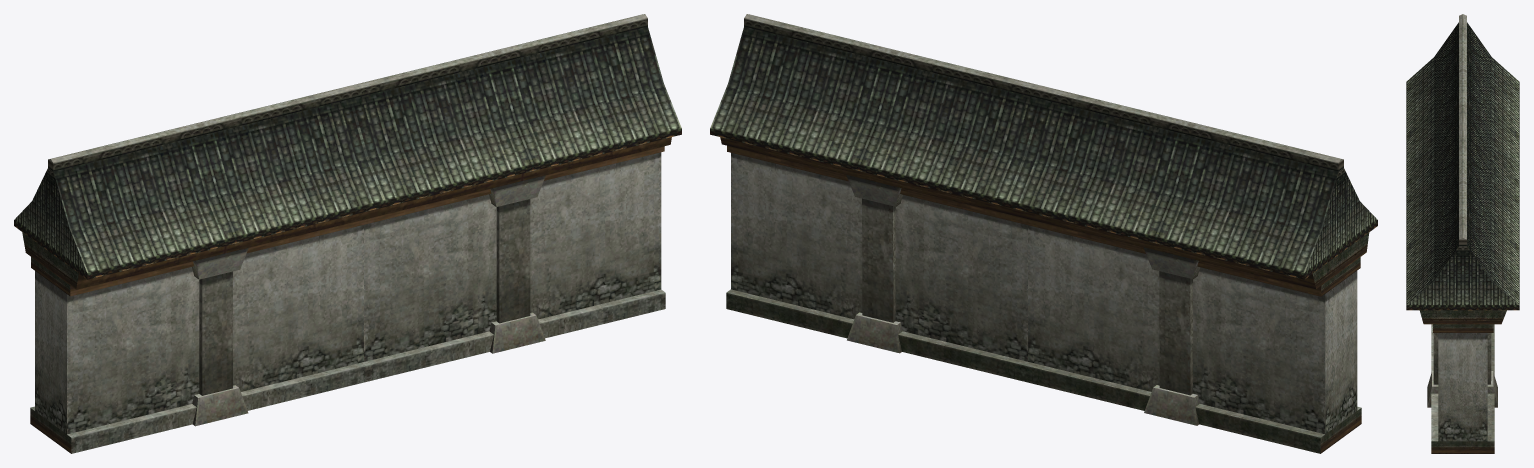
Rendered from c1-038-wall-lin2.fbx.
The picture shows the model from 3 angles, left to right: view 1: azimuth 30°, elevation 25°; view 2: azimuth 150°, elevation 25°; view 3: azimuth 270°, elevation 25°; orthographic projection. The views are drawn at different scales.
Parts seen in each view (by area): view 1: b1-038-wall-lin2; view 2: b1-038-wall-lin2; view 3: b1-038-wall-lin2.
Boxes of the visible parts, x1=… form: b1-038-wall-lin2: x1=14, y1=14, x2=681, y2=453; b1-038-wall-lin2: x1=710, y1=14, x2=1377, y2=453; b1-038-wall-lin2: x1=1406, y1=14, x2=1519, y2=453.
Size of the model in its own units: 10 by 4.5 by 2.13.
